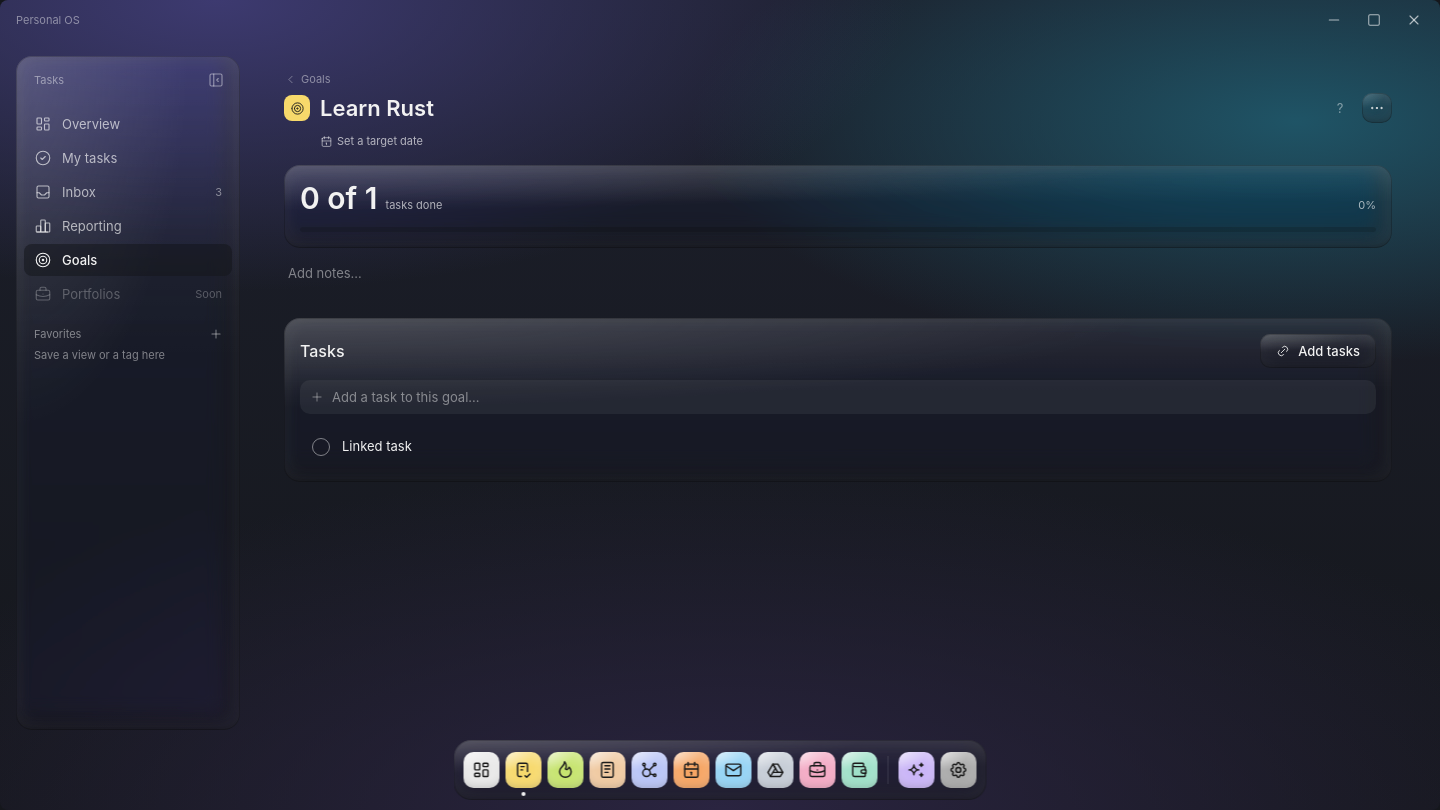
it: the Add tasks popover › says "No matching tasks." when the search finds nothing
Check: the field named "Goal title" is shown, box [316,94,1318,122]
Click the button "Add tasks" at (1318, 351), box [1260,334,1376,368]
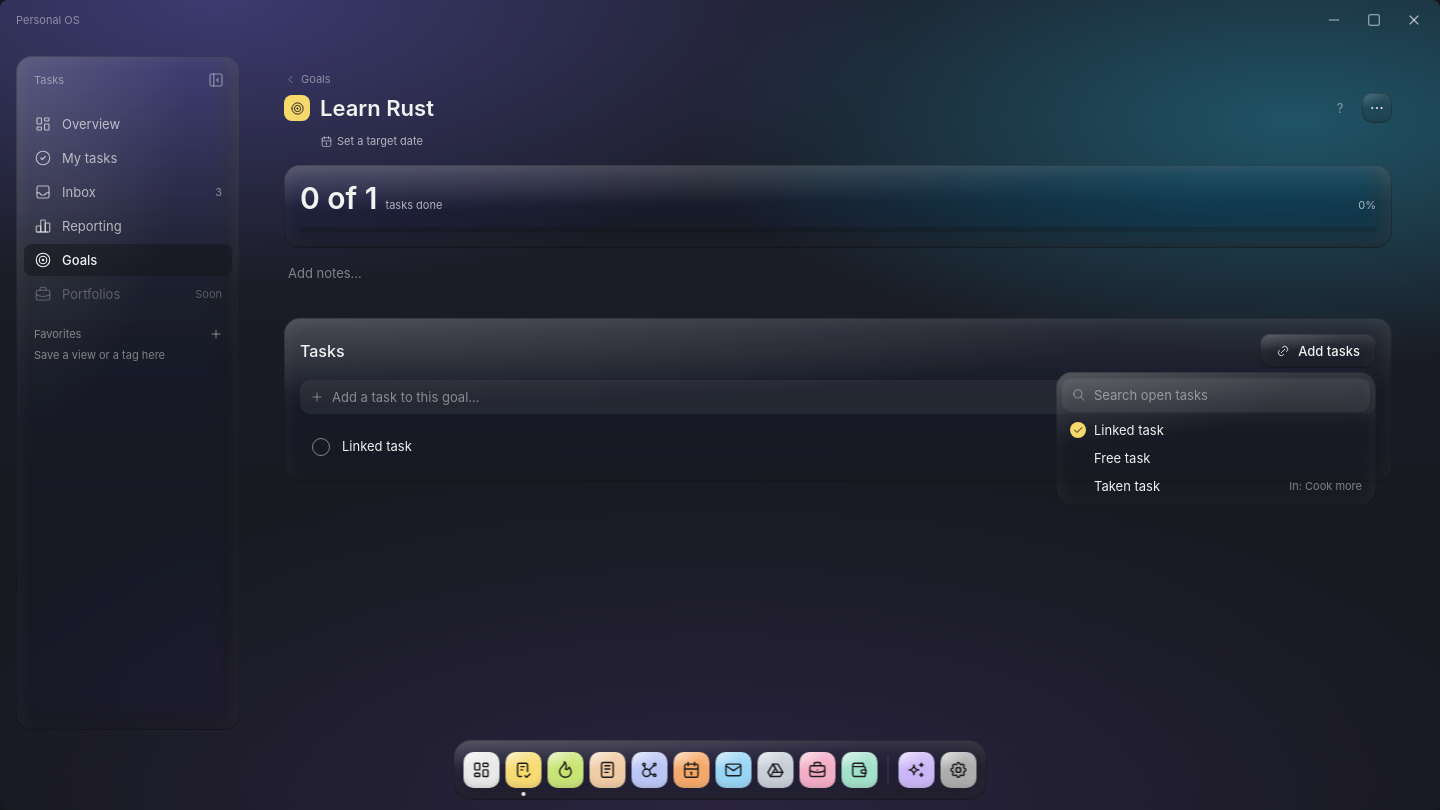
Check: the field labelled "Search open tasks" is shown
Type "zzz" into the field with placeholder "Search open tasks" at (1227, 395), box [1094,386,1360,404]
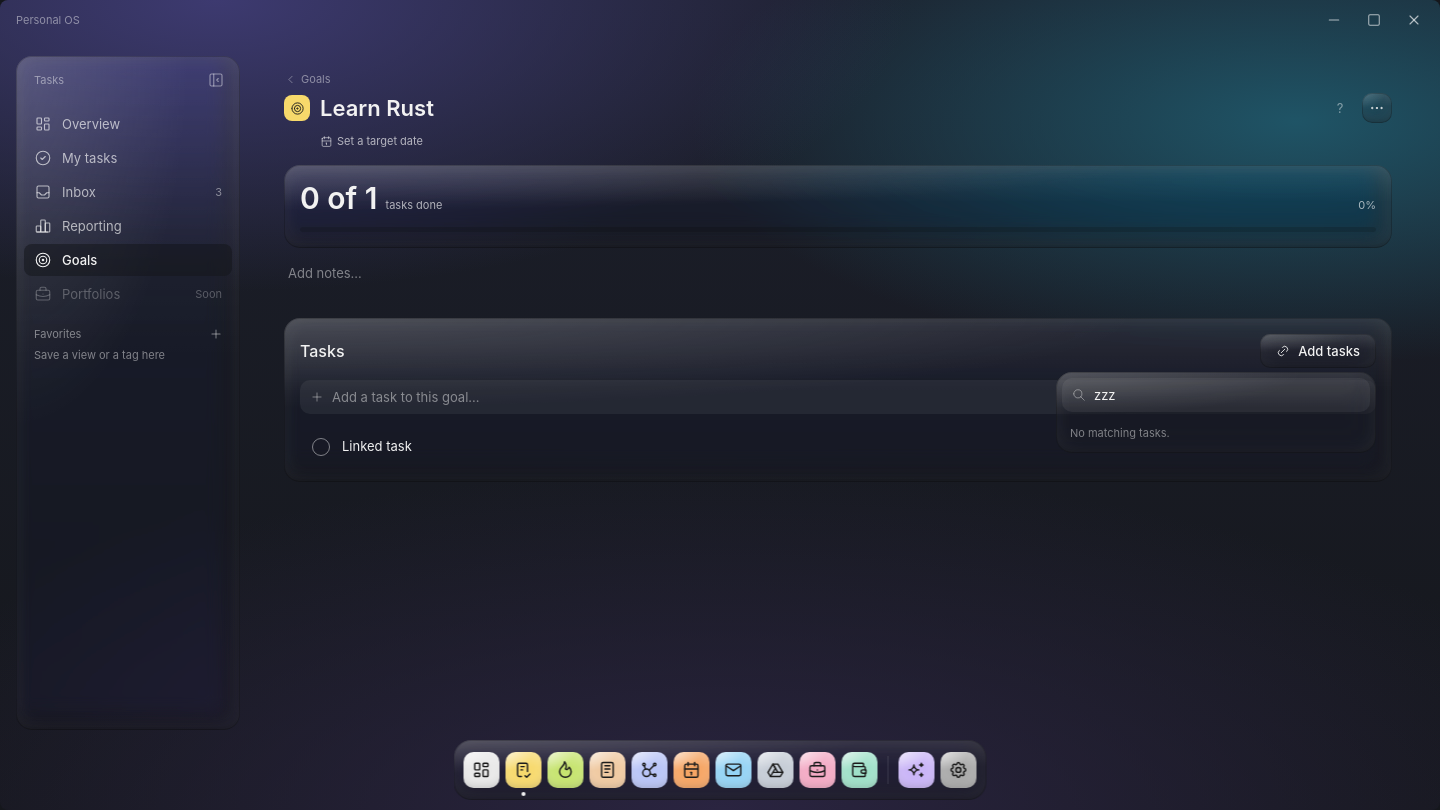
Check: the text "No matching tasks." is shown, box [1070,426,1170,440]
